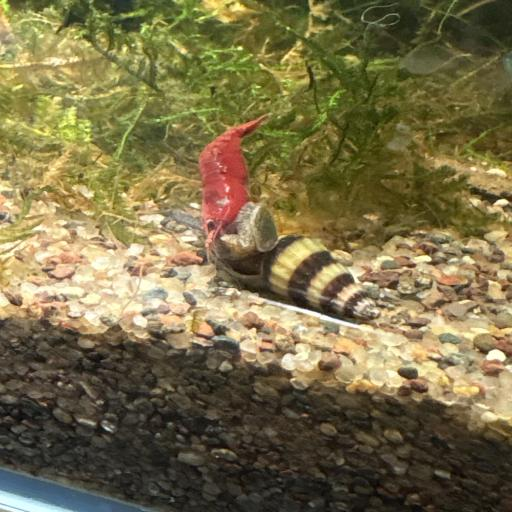Shrimp: (183, 109, 272, 256)
Snail: (215, 204, 383, 331)
